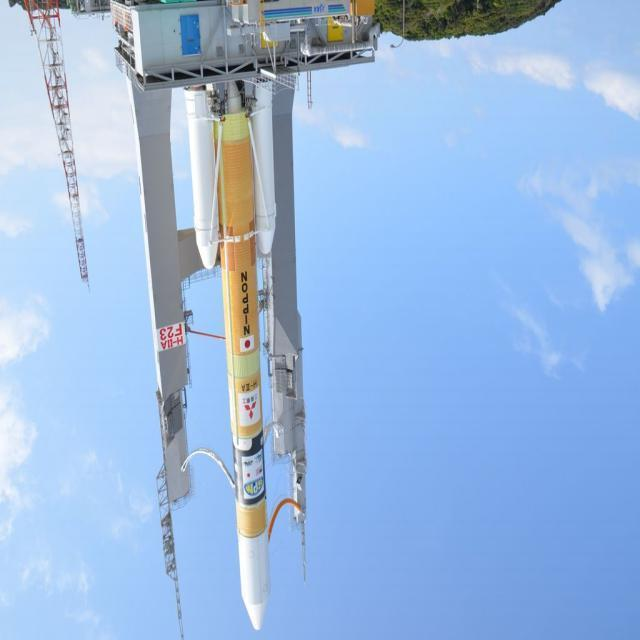missile: (162, 77, 292, 631)
